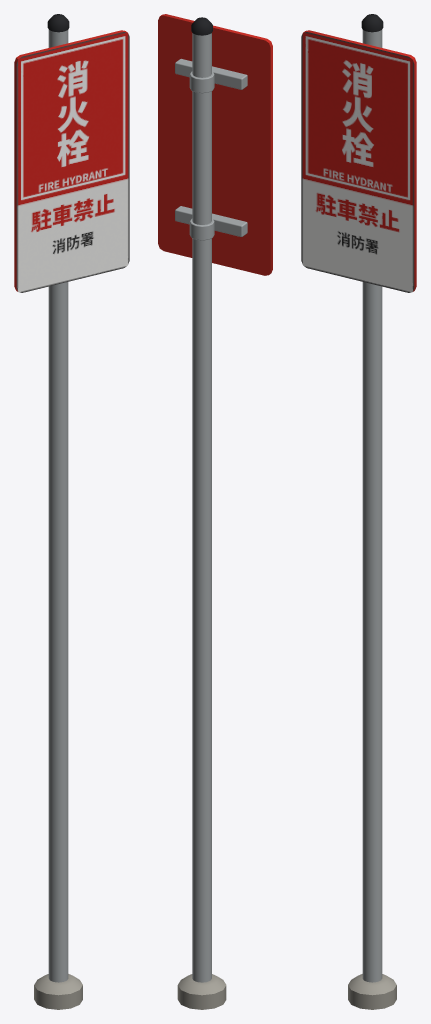
File: fire_hydrant_sign.fbx
3 views of the same model, side by side, from view 1: azimuth 30°, elevation 25°; view 2: azimuth 150°, elevation 25°; view 3: azimuth 330°, elevation 25° (orthographic).
Visible parts, largest first — view 1: fire_hydrant_sign; view 2: fire_hydrant_sign; view 3: fire_hydrant_sign.
Boxes of the visible parts, box(x1,y1,x2,y2) form: fire_hydrant_sign: box(14, 14, 129, 1009); fire_hydrant_sign: box(158, 14, 272, 1009); fire_hydrant_sign: box(301, 14, 416, 1009).
Size of the model in its own units: 0.4 by 3.33 by 0.1643.
Materials: 5 (1 with a texture image).
